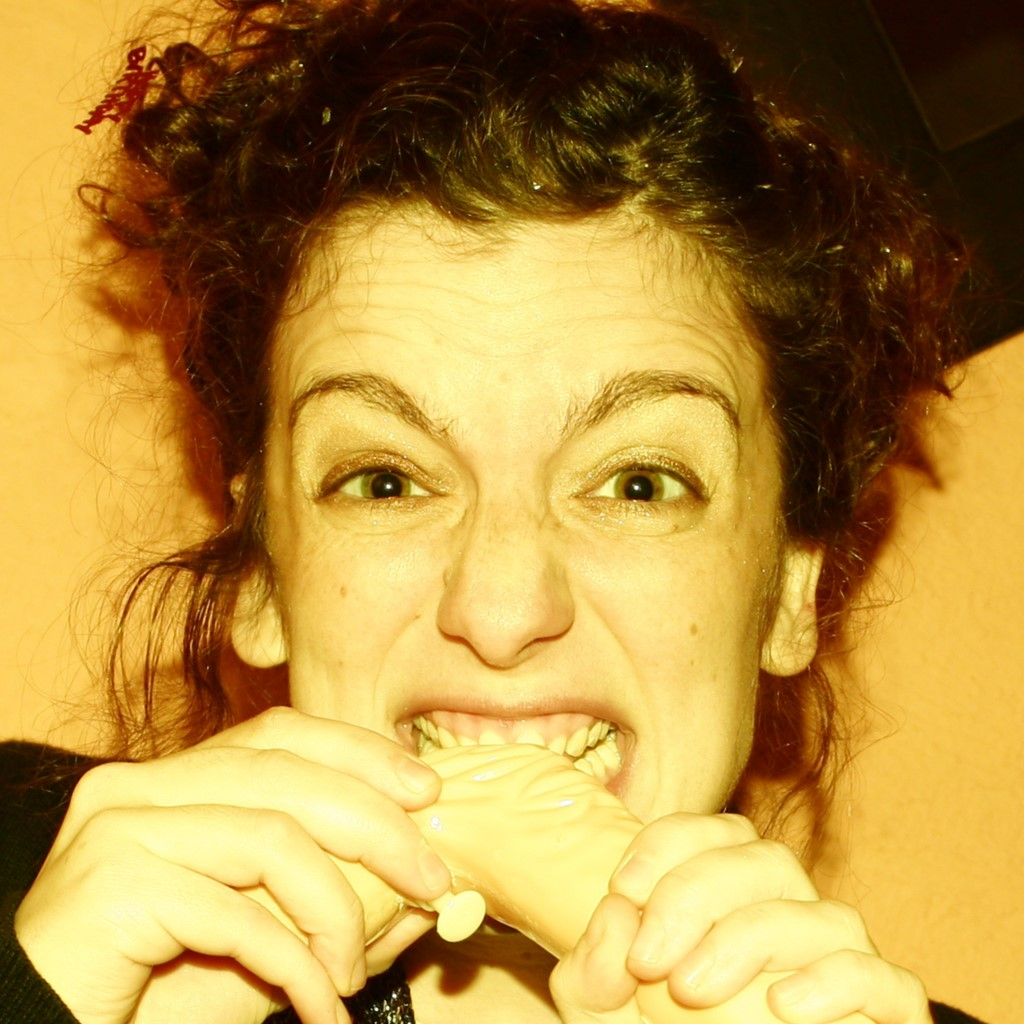sin_mascara: (235, 159, 797, 936)
